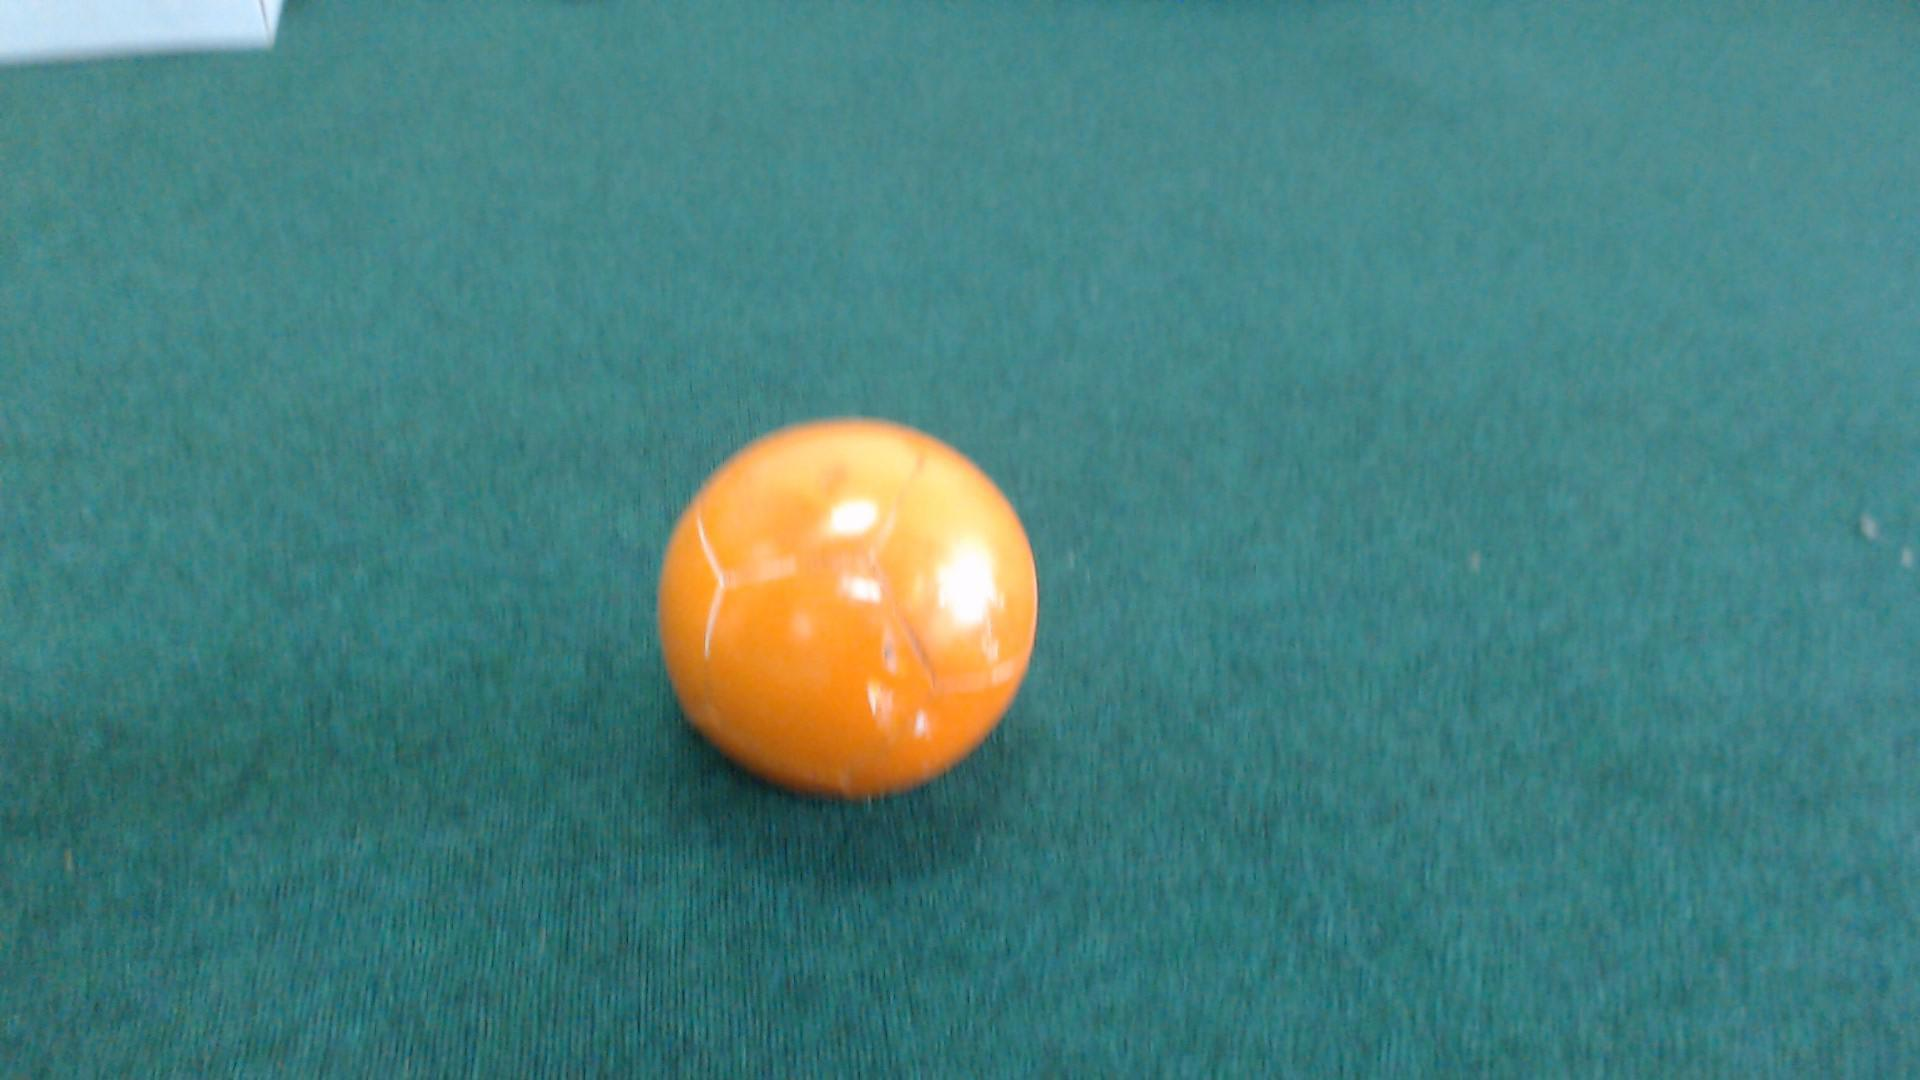bola: (626, 377, 1080, 812)
